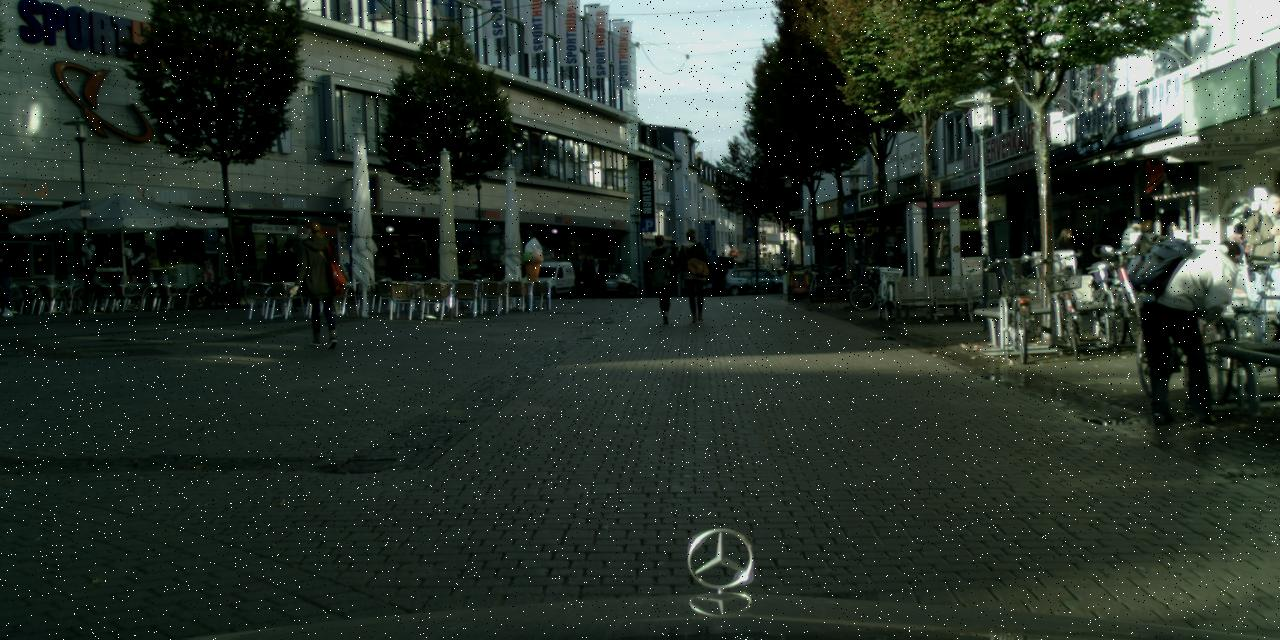ped: (1172, 239, 1244, 419), (292, 218, 344, 346), (1247, 192, 1279, 310), (1129, 219, 1168, 315), (676, 229, 714, 321), (644, 234, 680, 323), (274, 240, 304, 311), (1121, 215, 1149, 284), (1052, 228, 1080, 294), (385, 248, 406, 300), (464, 258, 480, 296), (590, 258, 604, 298)
